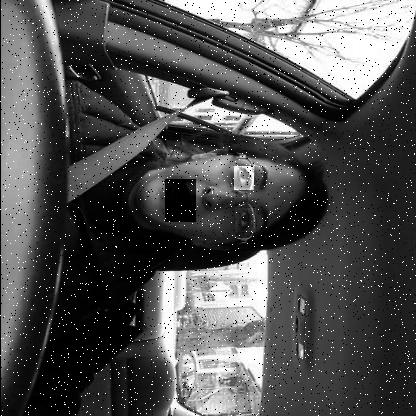seatbelt: (65, 79, 331, 262)
